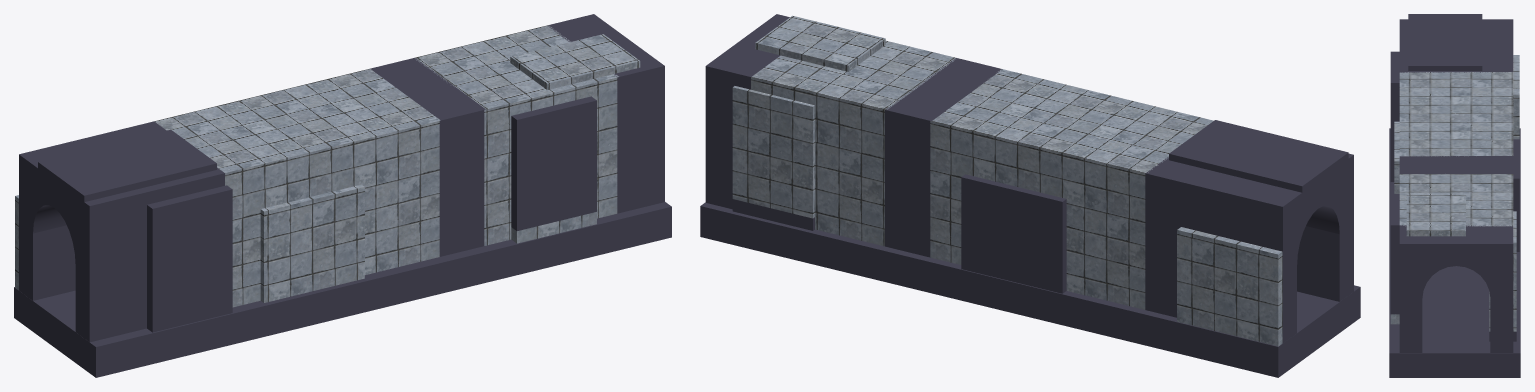
The model's file is LongHallway.fbx.
3 views of the same model, side by side, from view 1: azimuth 30°, elevation 25°; view 2: azimuth 150°, elevation 25°; view 3: azimuth 270°, elevation 25° (orthographic). The views are drawn at different scales.
Parts seen in each view (by area): view 1: block_gate% (×5), block (×6); view 2: block_gate% (×5), block (×6); view 3: block_gate% (×5), block (×9).
Boxes of the visible parts, left/top/right/bottom form: block_gate% (×5): left=19, top=14, right=664, bottom=342; block (×6): left=14, top=34, right=671, bottom=377; block_gate% (×5): left=705, top=14, right=1353, bottom=343; block (×6): left=700, top=15, right=1360, bottom=377; block_gate% (×5): left=1399, top=19, right=1513, bottom=352; block (×9): left=1389, top=14, right=1520, bottom=377.
Bounding box in the file's own units: 64.78 × 18.65 × 15.97.
